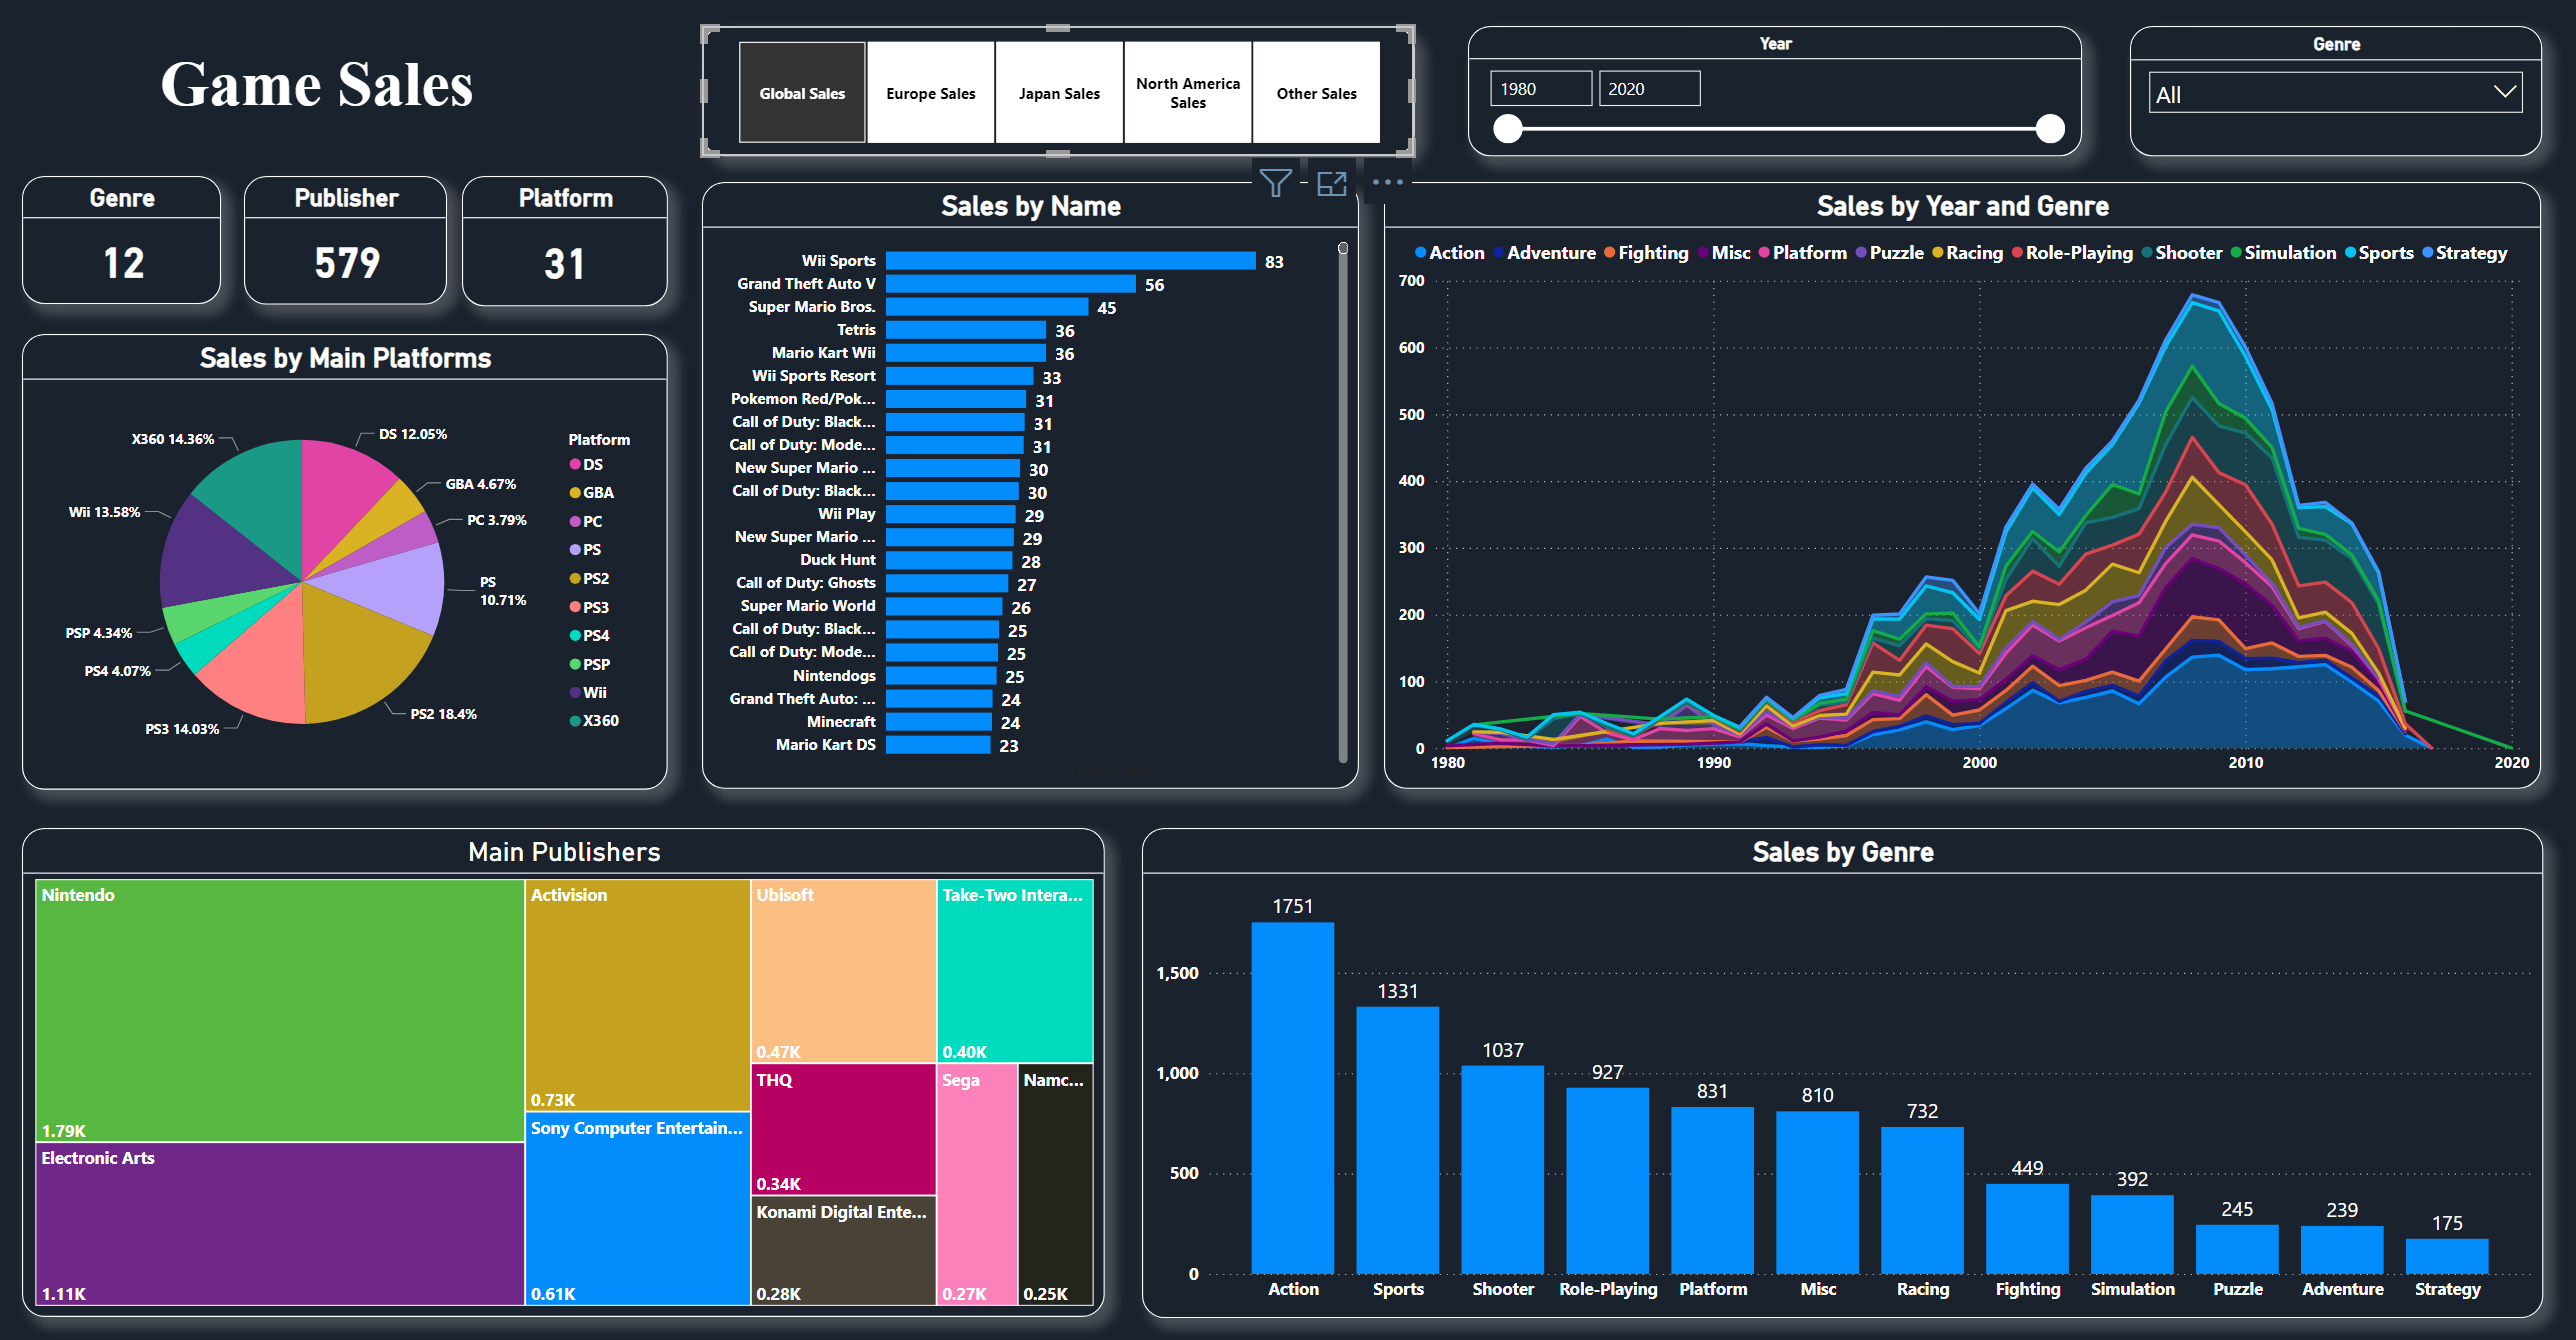

What the dashboard file says about the page in this screenshot:
{"tool":"powerbi","page":{"name":"Dashboard","canvas":[2300,1200],"ordinal":0},"visuals":[{"type":"slicer","fields":{"Values":["Sales_prm.Sales_prm"]},"box":[631.1,32.2,632.2,115.6],"z":0},{"type":"slicer","title":"Genre","fields":{"Values":["vgsales.Genre"]},"box":[1896.7,32.2,365.6,115.6],"z":1000},{"type":"clusteredColumnChart","title":"Sales by Genre","fields":{"Y":["Parameter.Japan Sales"],"Category":["vgsales.Genre"]},"box":[1021.1,743,1242.4,434.4],"z":2000},{"type":"barChart","title":"Sales by Name","fields":{"Y":["Parameter.Japan Sales"],"Category":["vgsales.Name"]},"box":[631.3,170.5,582.6,538],"z":3000},{"type":"treemap","title":"Main Publishers","fields":{"Values":["Parameter.Japan Sales"],"Group":["vgsales.Publisher"]},"box":[29,743.2,960,433.5],"z":4000},{"type":"pieChart","title":"Sales by Main Platforms","fields":{"Y":["Parameter.Japan Sales"],"Category":["vgsales.Platform"]},"box":[28.4,304.5,572.5,404],"z":5000},{"type":"slicer","title":"Year","fields":{"Values":["vgsales.Year"]},"box":[1311.1,32.2,544.4,115.6],"z":6000},{"type":"stackedAreaChart","title":"Sales by Year and Genre","fields":{"Y":["Parameter.Japan Sales"],"Category":["vgsales.Year"],"Series":["vgsales.Genre"]},"box":[1236.8,170.3,1025.8,538.1],"z":7000},{"type":"card","title":"Publisher","fields":{"Values":["Count(vgsales.Publisher)"]},"box":[224.5,164.5,180,114.2],"z":8000},{"type":"card","title":"Genre","fields":{"Values":["Count(vgsales.Genre)"]},"box":[28.4,164.4,176.6,113.7],"z":9000},{"type":"card","title":"Platform","fields":{"Values":["Count(vgsales.Platform)"]},"box":[418.2,164.4,182.7,115.7],"z":10000},{"type":"textbox","box":[45.6,45.6,487.8,78.9],"z":10001}]}

Visuals, with their boxes in screenshot pixels (x1, y1, x2, y2), scaled from the page's 2300x1200 canvas onto the 2576x1340 screenshot:
slicer - Sales_prm.Sales_prm: pyautogui.locateOnScreen(707, 36, 1415, 165)
"Genre" slicer: pyautogui.locateOnScreen(2124, 36, 2534, 165)
"Sales by Genre" clusteredColumnChart: pyautogui.locateOnScreen(1144, 830, 2535, 1315)
"Sales by Name" barChart: pyautogui.locateOnScreen(707, 190, 1360, 791)
"Main Publishers" treemap: pyautogui.locateOnScreen(32, 830, 1108, 1314)
"Sales by Main Platforms" pieChart: pyautogui.locateOnScreen(32, 340, 673, 791)
"Year" slicer: pyautogui.locateOnScreen(1468, 36, 2078, 165)
"Sales by Year and Genre" stackedAreaChart: pyautogui.locateOnScreen(1385, 190, 2534, 791)
"Publisher" card: pyautogui.locateOnScreen(251, 184, 453, 311)
"Genre" card: pyautogui.locateOnScreen(32, 184, 230, 311)
"Platform" card: pyautogui.locateOnScreen(468, 184, 673, 313)
textbox: pyautogui.locateOnScreen(51, 51, 597, 139)
